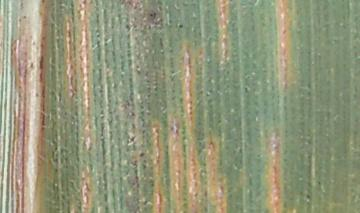tarspot: (175, 20, 187, 30), (136, 150, 146, 161), (302, 192, 312, 202), (147, 10, 157, 20), (127, 134, 137, 144), (128, 120, 137, 131)
